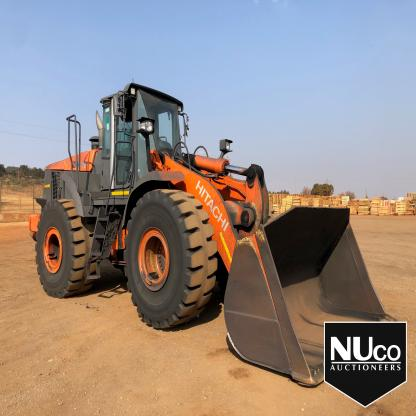bull_dozer/loader/grader: (28, 81, 400, 394)
